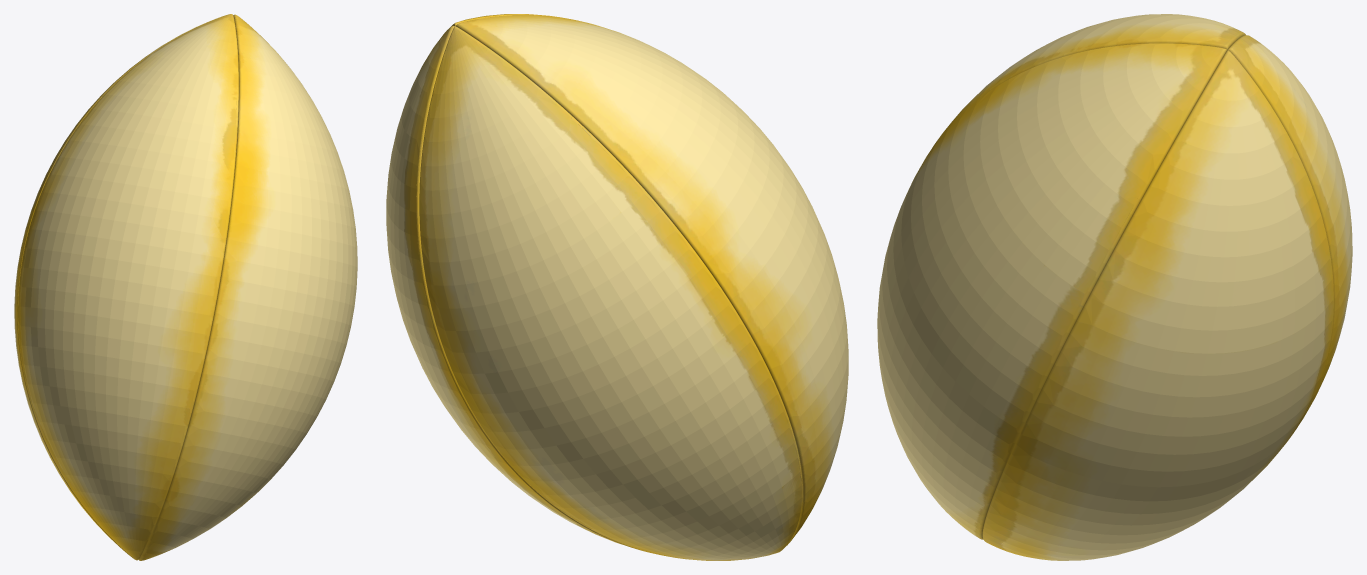
File: uploads_files_2466547_RUGBY+BALL.fbx
3 renders of one model, left to right at view 1: azimuth 30°, elevation 25°; view 2: azimuth 150°, elevation 25°; view 3: azimuth 270°, elevation 25°, orthographic. The views are drawn at different scales.
Visible parts, largest first — view 1: node_id3; view 2: node_id3; view 3: node_id3.
Boxes of the visible parts, x1,y1,x2,y2 form: node_id3: [14, 14, 357, 560]; node_id3: [386, 14, 848, 560]; node_id3: [877, 14, 1352, 560].
Bounding box in the file's own units: 0.3319 × 0.4525 × 0.3253.
Materials: 1 (1 with a texture image).
